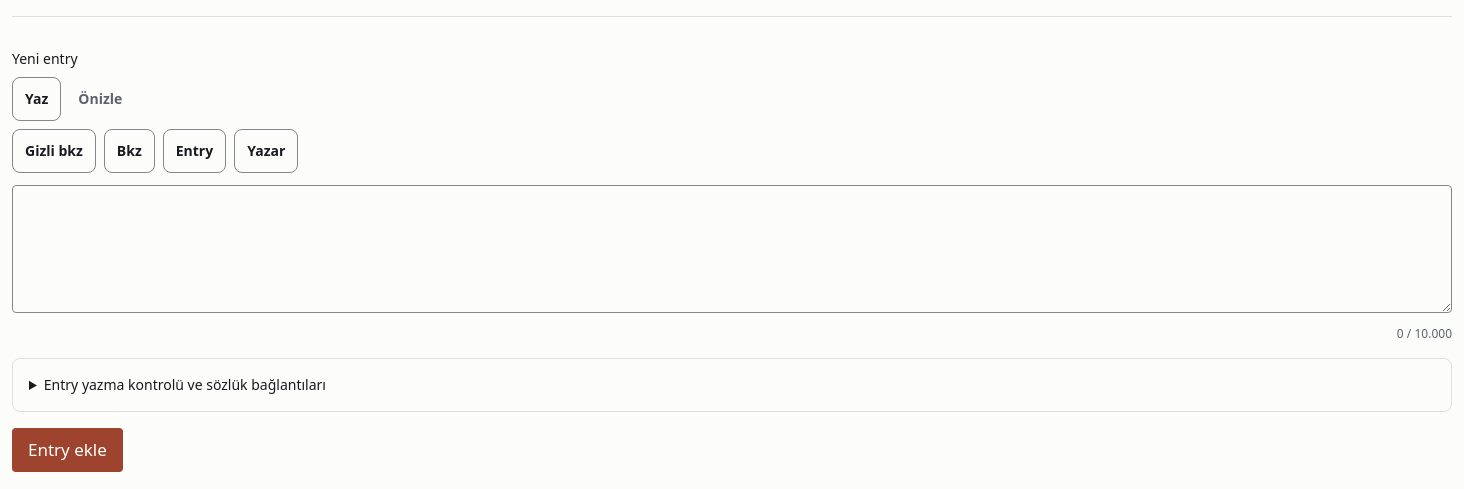
Test: composer önizleme sekmeleri › boş metinde önizlenecek bir şey olmadığını söyler
This screenshot has width=1464, height=489.
Click the tab "Önizle".
click(100, 99)  # box [65,77,135,121]
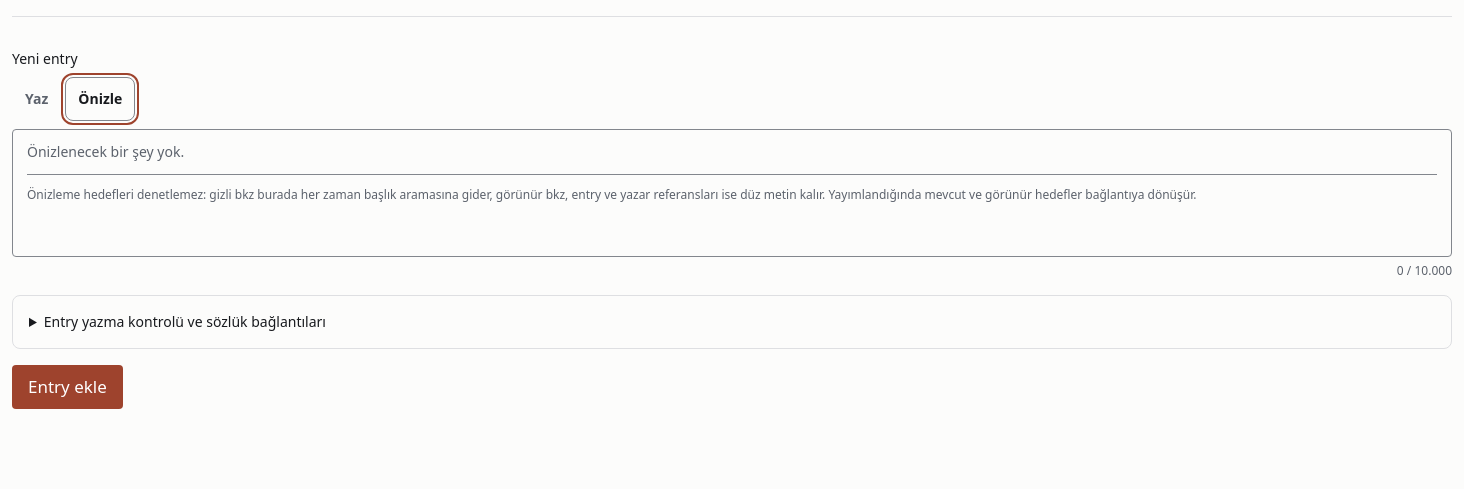
Now the panel shows "Önizlenecek bir şey yok", box [27,142,184,161]
